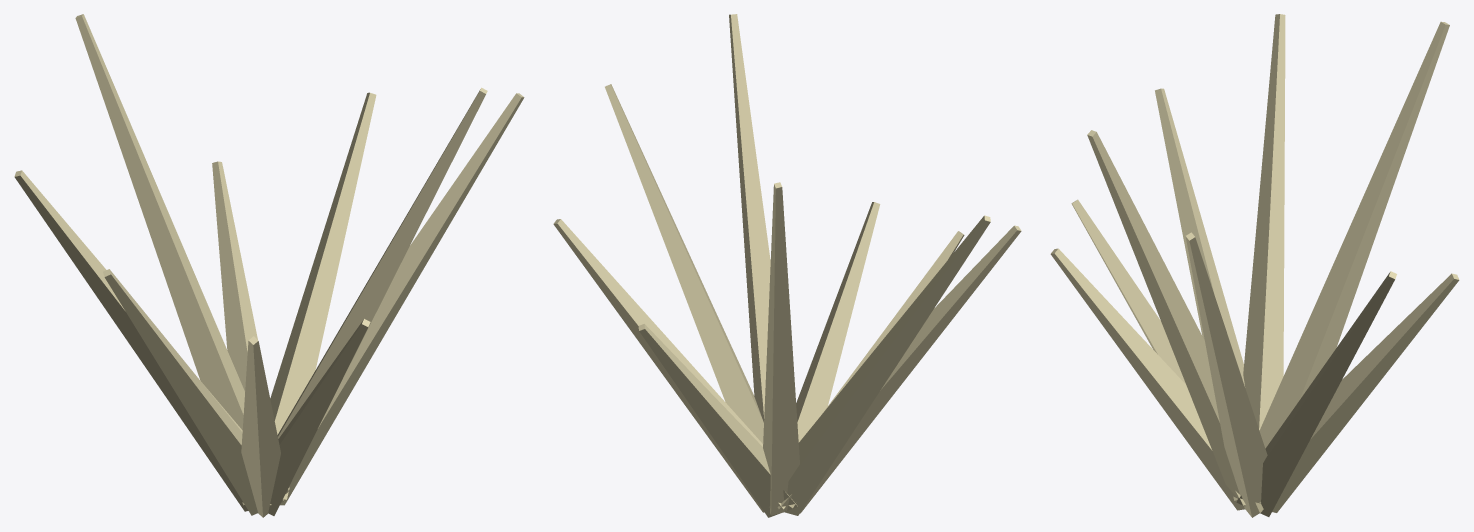
The model's file is dry_grass.glb.
3 renders of one model, left to right at view 1: azimuth 30°, elevation 25°; view 2: azimuth 150°, elevation 25°; view 3: azimuth 270°, elevation 25°, orthographic. The views are drawn at different scales.
Parts seen in each view (by area): view 1: dry_grass; view 2: dry_grass; view 3: dry_grass.
Boxes of the visible parts, x1,y1,x2,y2 form: dry_grass: (14, 14, 524, 517); dry_grass: (553, 14, 1021, 517); dry_grass: (1050, 14, 1459, 517).
Size of the model in its own units: 0.9841 by 0.9078 by 0.7552.
